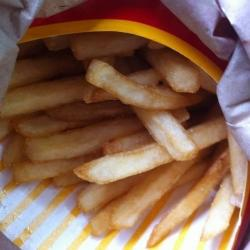fries: (19, 43, 221, 202)
